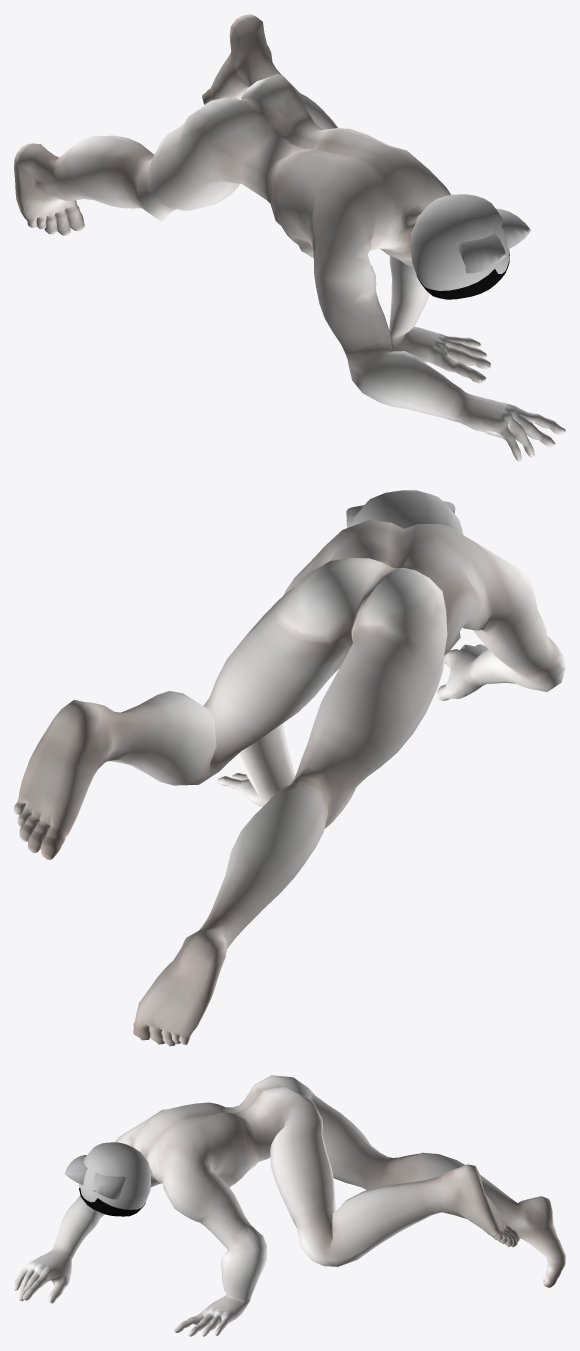
3 views of the same model, one above another, from view 1: azimuth 30°, elevation 25°; view 2: azimuth 150°, elevation 25°; view 3: azimuth 270°, elevation 25° (orthographic). The views are drawn at different scales.
Parts seen in each view (by area): view 1: Muscle_Body, Cat_Head, ______?001; view 2: Muscle_Body, Cat_Head; view 3: Muscle_Body, Cat_Head, ______?001.
Part boxes in pixels (box(x1,y1,x2,y2)): Muscle_Body: box(14, 14, 565, 461); Cat_Head: box(410, 194, 530, 290); ______?001: box(416, 253, 509, 299); Muscle_Body: box(14, 520, 565, 1046); Cat_Head: box(346, 490, 463, 534); Muscle_Body: box(14, 1075, 565, 1336); Cat_Head: box(65, 1142, 151, 1209); ______?001: box(79, 1188, 145, 1216).
Size of the model in its own units: 10.92 by 11.87 by 29.55.
